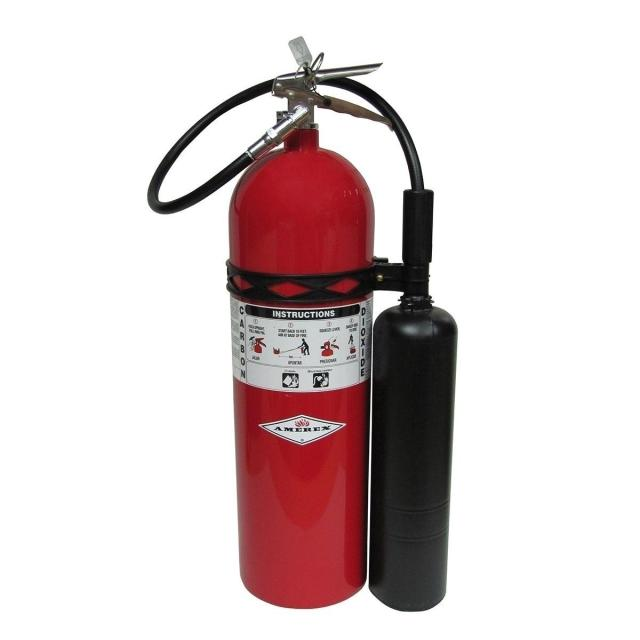fire_extinguisher: (140, 33, 461, 612)
